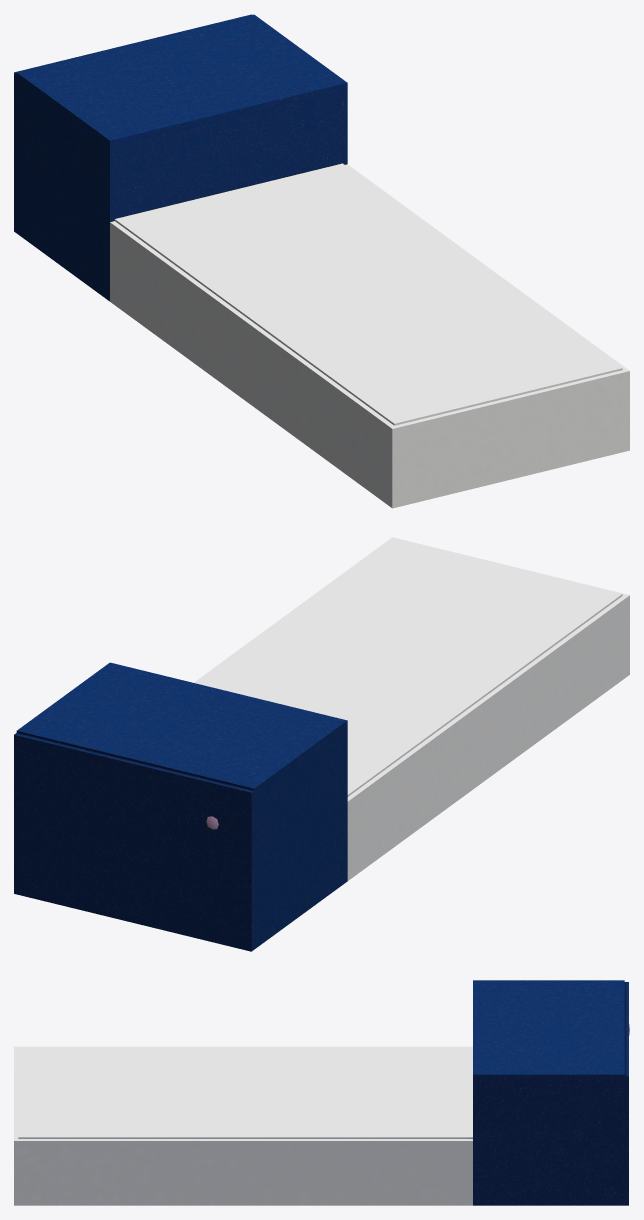
File: room_concept_v1.glb
3 views of the same model, one above another, from view 1: azimuth 30°, elevation 25°; view 2: azimuth 150°, elevation 25°; view 3: azimuth 270°, elevation 25° (orthographic). The views are drawn at different scales.
Parts seen in each view (by area): view 1: R_concept_shell, R_concept_vr; view 2: R_concept_vr, R_concept_shell; view 3: R_concept_shell, R_concept_vr.
Part boxes in pixels (x1,y1,x2,y2): R_concept_shell: (110, 163, 629, 508); R_concept_vr: (14, 14, 347, 301); R_concept_vr: (14, 662, 347, 951); R_concept_shell: (194, 537, 629, 880); R_concept_shell: (14, 1046, 472, 1205); R_concept_vr: (473, 980, 629, 1205).
Size of the model in its own units: 12.5 by 8.2 by 34.55.
6 materials, 6 textured.
